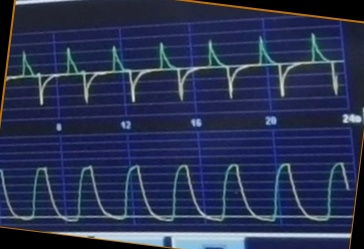Normal Flow: (14, 32, 343, 107)
Normal Volume: (2, 159, 351, 225)
